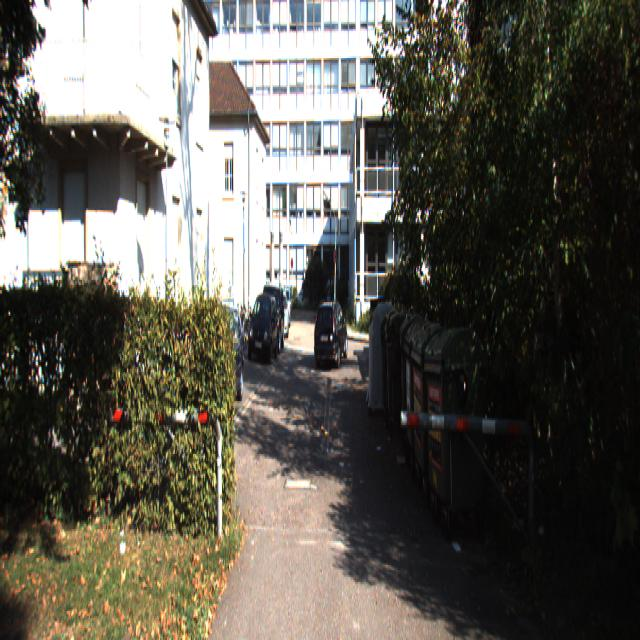Car: (188, 294, 246, 414), (314, 298, 349, 368), (247, 294, 279, 364), (258, 282, 286, 356), (272, 292, 290, 338)
